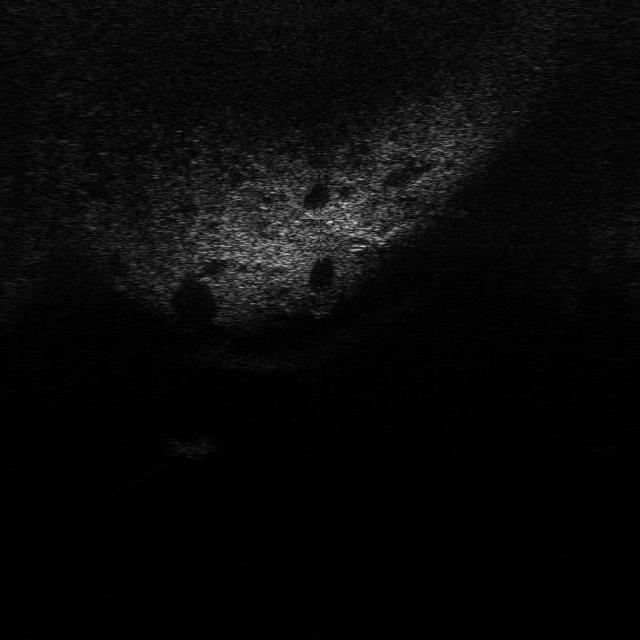ball: (304, 295, 336, 319)
cube: (158, 434, 218, 460)
